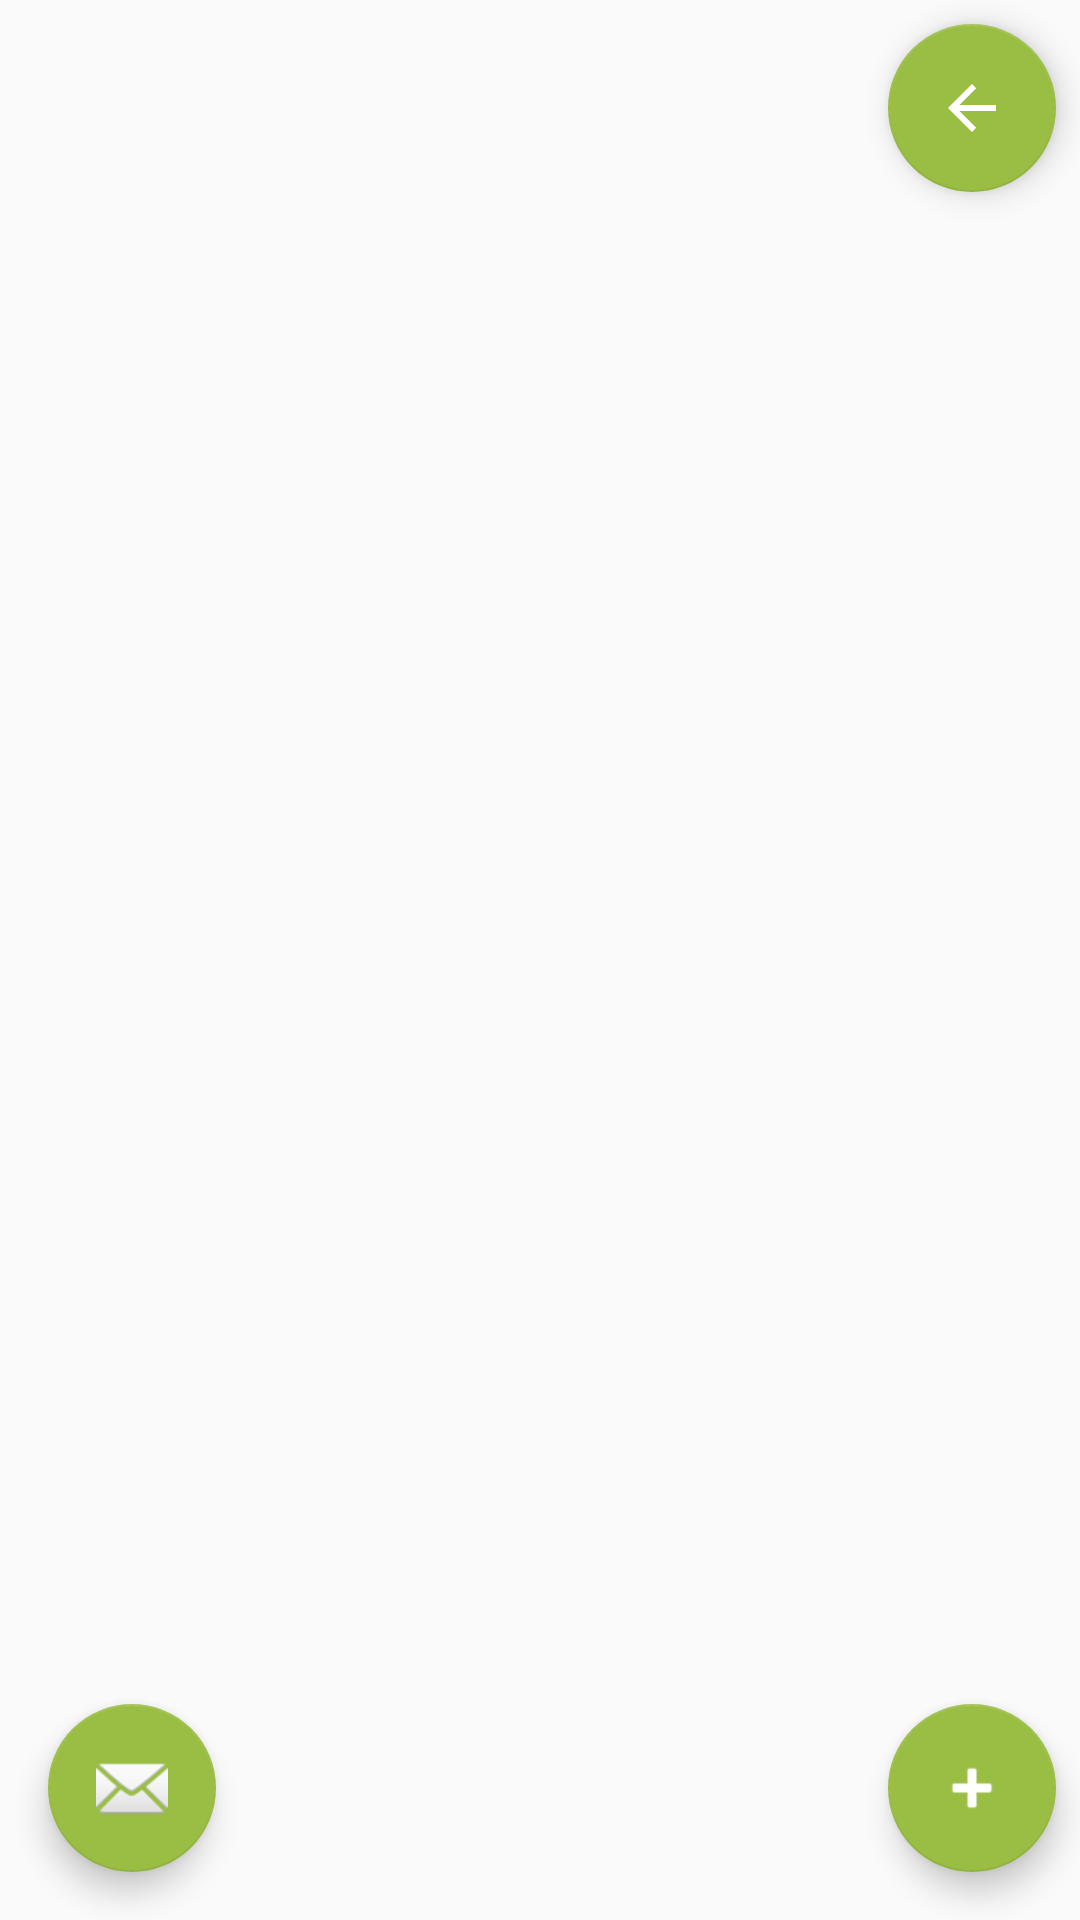

Named icons in this screenshot (1080w x 1920h) and their centers, [x,y]:
add: [972,1788]
email: [132,1788]
